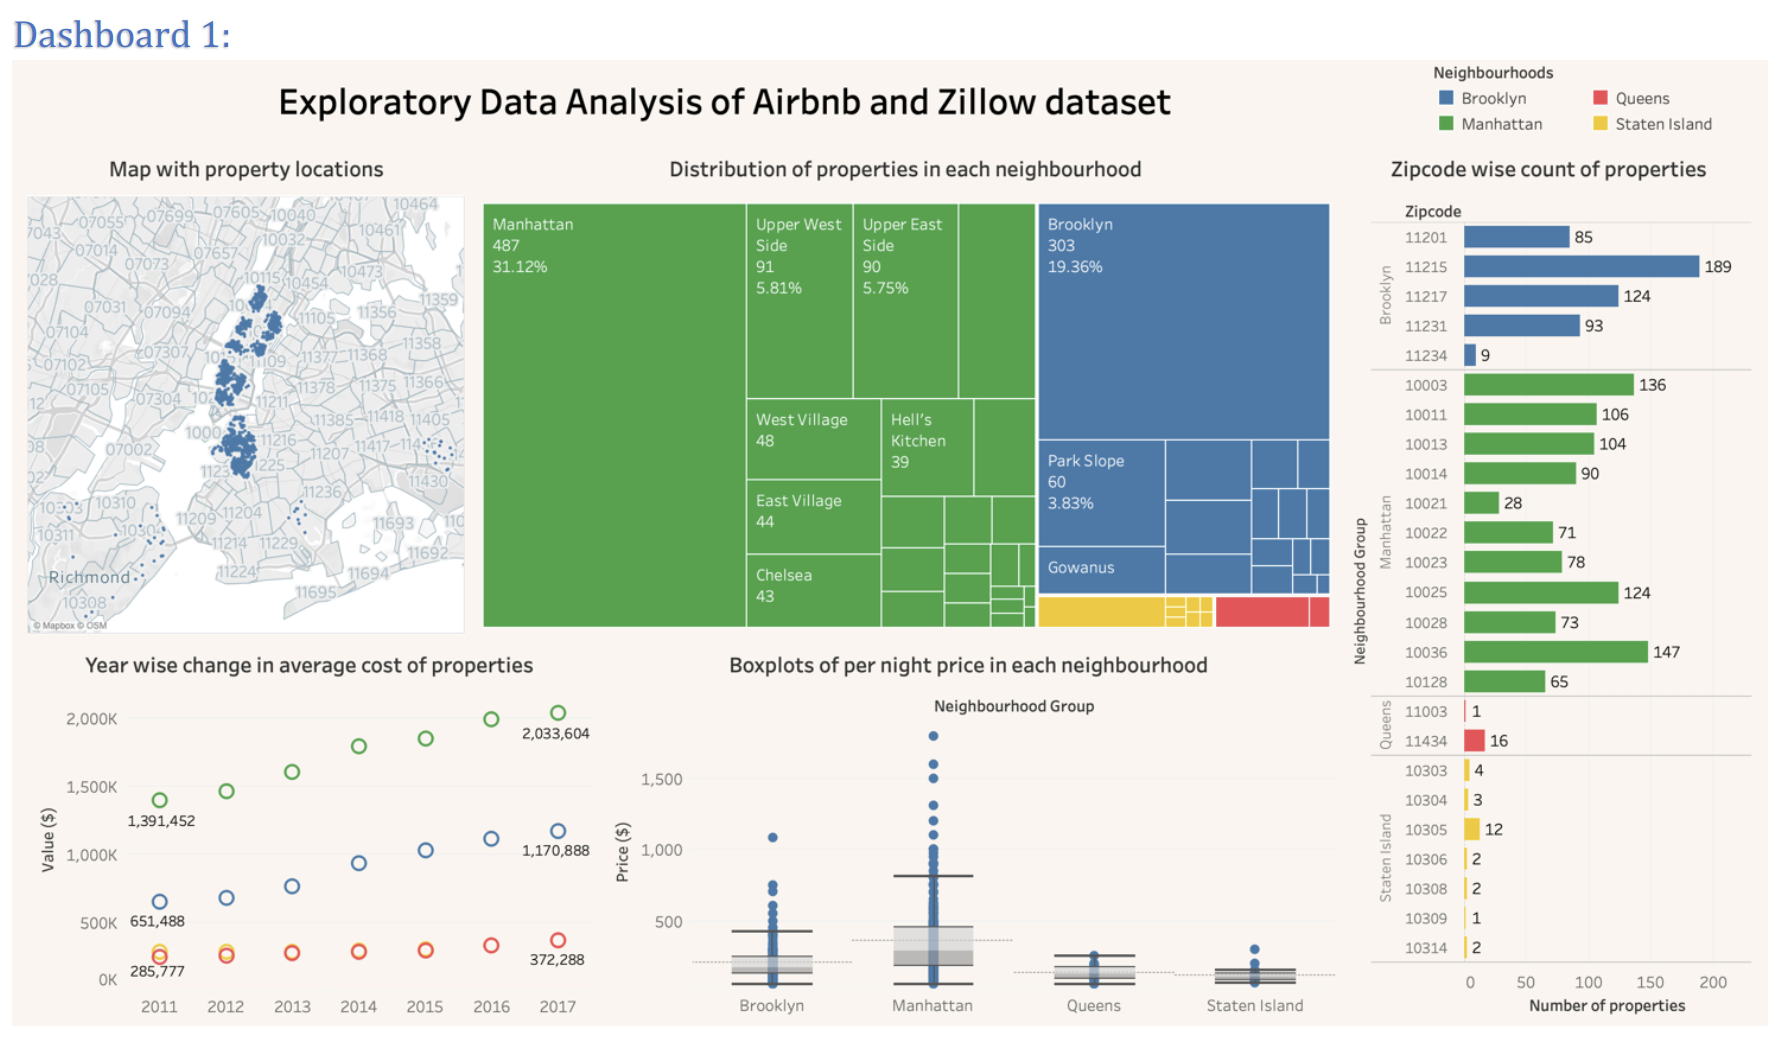

Layout of this report page (visuals, bound fields, positions):
{"tool":"tableau","page":{"name":"EDA","canvas":[1366,768],"ordinal":0},"visuals":[{"type":"text","box":[8,8,1094,68]},{"type":"legend","title":"Treemap","param":"[federated.0udglg21pkgcfl18mvlbw0mtbvsc].[none:neighbourhood_group_cleansed:nk]","box":[1102,8,256,68]},{"type":"worksheet","title":"Map","mark":"Automatic","rows":["latitude"],"cols":["longitude"],"box":[8,76,348.7,386]},{"type":"worksheet","title":"Treemap","mark":"Automatic","box":[356.7,76,676.9,386]},{"type":"worksheet","title":"Zipcode wise counts","mark":"Automatic","rows":["neighbourhood_group_cleansed","zipcode"],"cols":["Number of Records"],"box":[1033.6,76,324.4,684]},{"type":"worksheet","title":"Change in Cost","mark":"Shape","box":[8,462,447,298]},{"type":"worksheet","title":"Per night price boxplots","mark":"Circle","rows":["price"],"cols":["neighbourhood_group_cleansed"],"box":[455,462,578.6,298]}]}

Visuals, with their boxes on the page's 1366x768 design canvas (x1, y1, x2, y2). These are canvas units, not pixel positions in the 1778x1044 screenshot, which may show the page scaled, cropped or inside an application window:
text: {"x1": 8, "y1": 8, "x2": 1102, "y2": 76}
"Treemap" legend: {"x1": 1102, "y1": 8, "x2": 1358, "y2": 76}
"Map" worksheet: {"x1": 8, "y1": 76, "x2": 357, "y2": 462}
"Treemap" worksheet: {"x1": 357, "y1": 76, "x2": 1034, "y2": 462}
"Zipcode wise counts" worksheet: {"x1": 1034, "y1": 76, "x2": 1358, "y2": 760}
"Change in Cost" worksheet (Shape marks): {"x1": 8, "y1": 462, "x2": 455, "y2": 760}
"Per night price boxplots" worksheet (Circle marks): {"x1": 455, "y1": 462, "x2": 1034, "y2": 760}
